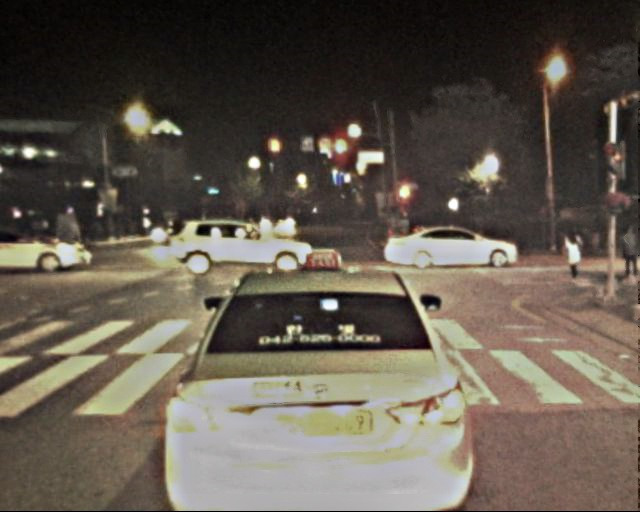person: (617, 227, 639, 285), (564, 227, 587, 281)
